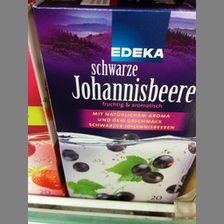tea: (32, 1, 195, 201)
